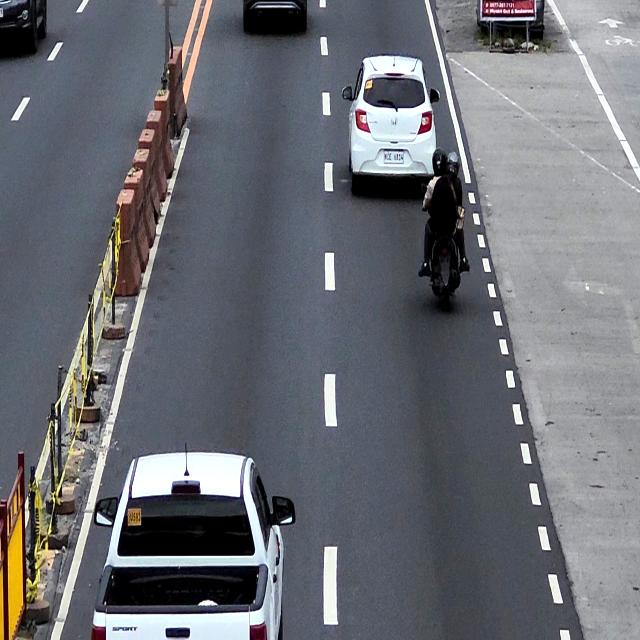Car: (89, 450, 295, 640), (343, 55, 440, 196)
License-Plate: (383, 150, 404, 164)
Motorcycle: (425, 186, 466, 314)
